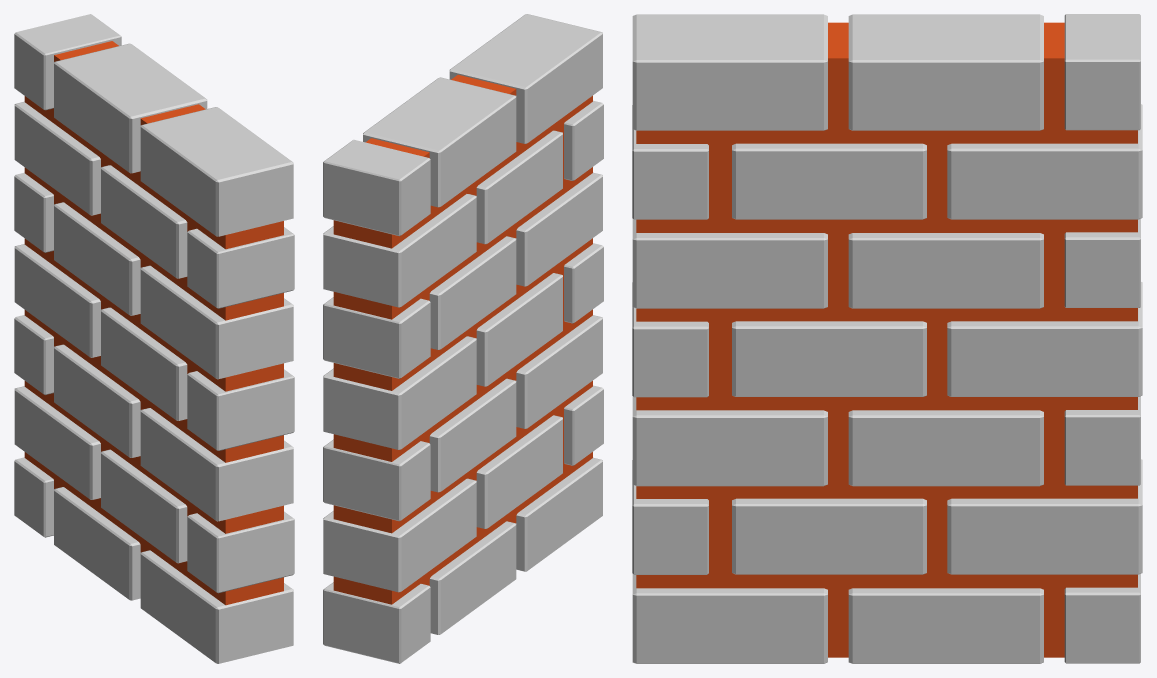
Rendered from OutdoorWallV1.fbx.
The picture shows the model from 3 angles, left to right: view 1: azimuth 30°, elevation 25°; view 2: azimuth 150°, elevation 25°; view 3: azimuth 270°, elevation 25°; orthographic projection. The views are drawn at different scales.
Visible parts, largest first — view 1: Brick.001, Mortar; view 2: Brick.001, Mortar; view 3: Brick.001, Mortar.
Boxes of the visible parts, left/top/right/bottom form: Brick.001: left=14, top=14, right=294, bottom=663; Mortar: left=24, top=41, right=283, bottom=605; Brick.001: left=323, top=14, right=603, bottom=663; Mortar: left=333, top=74, right=592, bottom=604; Brick.001: left=632, top=14, right=1142, bottom=663; Mortar: left=636, top=22, right=1137, bottom=657.
Size of the model in its own units: 16.6 by 98.41 by 75.29.
